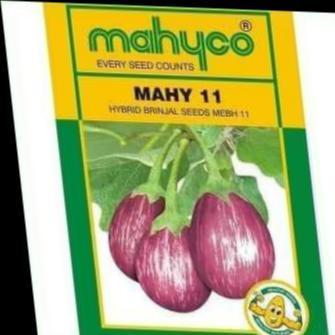eggplant: (90, 164, 282, 276), (96, 163, 204, 308), (162, 174, 276, 278)
